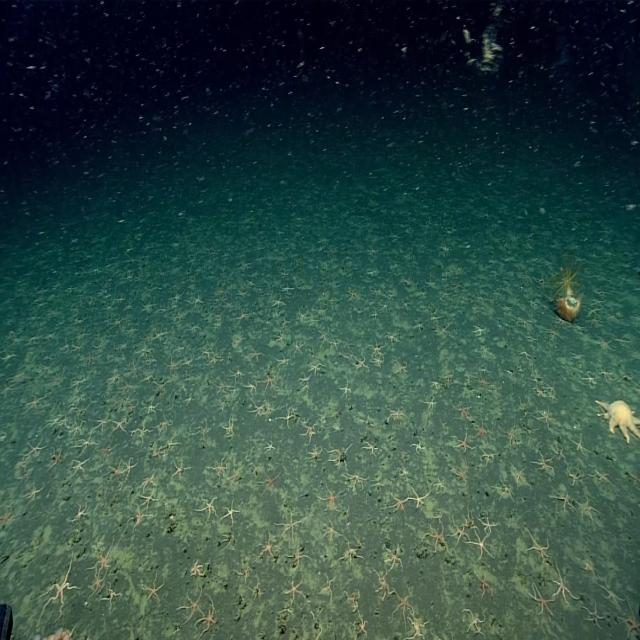brittle-stars: (44, 558, 78, 610), (552, 566, 576, 605), (276, 511, 302, 543), (528, 584, 553, 615), (141, 572, 164, 604), (392, 588, 413, 622), (179, 589, 202, 618), (200, 600, 219, 635), (527, 532, 549, 562), (425, 522, 447, 552), (317, 484, 340, 512), (622, 603, 640, 638), (260, 528, 278, 562), (374, 569, 393, 600), (282, 577, 306, 601), (600, 581, 622, 607), (584, 601, 605, 628), (471, 531, 492, 558), (466, 610, 487, 637), (552, 487, 574, 512), (94, 546, 115, 572), (44, 624, 78, 640), (408, 485, 431, 508), (328, 446, 351, 469), (286, 546, 308, 570), (578, 496, 599, 521), (532, 451, 554, 474), (342, 541, 362, 566), (512, 462, 531, 488), (384, 547, 404, 571), (198, 496, 218, 520), (346, 472, 368, 493), (261, 472, 282, 494), (24, 483, 46, 504), (128, 508, 150, 529), (27, 438, 47, 460), (495, 480, 514, 503), (322, 520, 340, 544), (450, 519, 468, 543), (89, 572, 107, 596), (410, 616, 428, 640), (570, 436, 589, 458), (221, 502, 239, 525), (474, 421, 492, 444), (103, 585, 121, 608), (477, 572, 494, 596), (172, 456, 189, 480), (70, 456, 90, 476), (453, 434, 473, 454), (535, 407, 554, 428), (480, 513, 498, 535), (344, 590, 362, 612), (211, 457, 228, 479), (72, 502, 88, 525), (354, 614, 368, 640), (77, 434, 96, 453), (390, 492, 408, 512), (26, 392, 44, 412), (227, 468, 244, 489), (453, 461, 469, 483), (140, 489, 158, 508), (195, 420, 212, 440), (278, 407, 294, 428), (50, 448, 66, 469), (140, 474, 158, 492), (158, 416, 174, 436), (134, 422, 150, 442), (504, 424, 518, 446), (97, 440, 114, 458), (262, 374, 278, 393), (189, 559, 205, 578), (70, 418, 86, 437), (107, 461, 123, 480), (591, 468, 610, 484), (387, 408, 405, 424), (362, 440, 378, 458), (151, 324, 167, 342), (213, 378, 229, 396), (596, 336, 612, 354), (123, 458, 137, 478), (598, 367, 615, 383), (392, 358, 408, 375), (368, 341, 384, 358), (69, 375, 86, 391), (96, 414, 111, 432), (249, 398, 264, 416), (303, 421, 317, 440), (339, 379, 352, 399), (306, 446, 322, 462), (456, 405, 471, 422), (222, 416, 234, 436), (583, 371, 598, 387), (111, 418, 126, 434), (128, 359, 143, 375), (482, 450, 498, 465), (248, 346, 262, 363), (144, 397, 158, 414), (167, 356, 181, 373), (397, 363, 411, 380), (628, 470, 640, 489), (276, 352, 290, 368), (386, 330, 400, 346), (166, 362, 179, 379), (435, 476, 447, 494), (424, 395, 438, 410), (208, 352, 222, 367), (518, 346, 532, 361), (141, 299, 155, 314), (354, 355, 367, 371), (244, 380, 257, 396), (120, 379, 133, 395), (272, 294, 286, 308), (480, 344, 494, 358), (274, 332, 287, 347), (296, 308, 308, 324), (310, 360, 323, 374), (372, 354, 386, 367), (474, 323, 488, 336), (479, 376, 492, 390), (342, 337, 354, 352), (518, 316, 533, 328), (398, 463, 409, 479), (282, 282, 295, 294), (193, 293, 205, 306), (152, 447, 162, 462), (267, 441, 277, 454), (372, 285, 382, 297)
